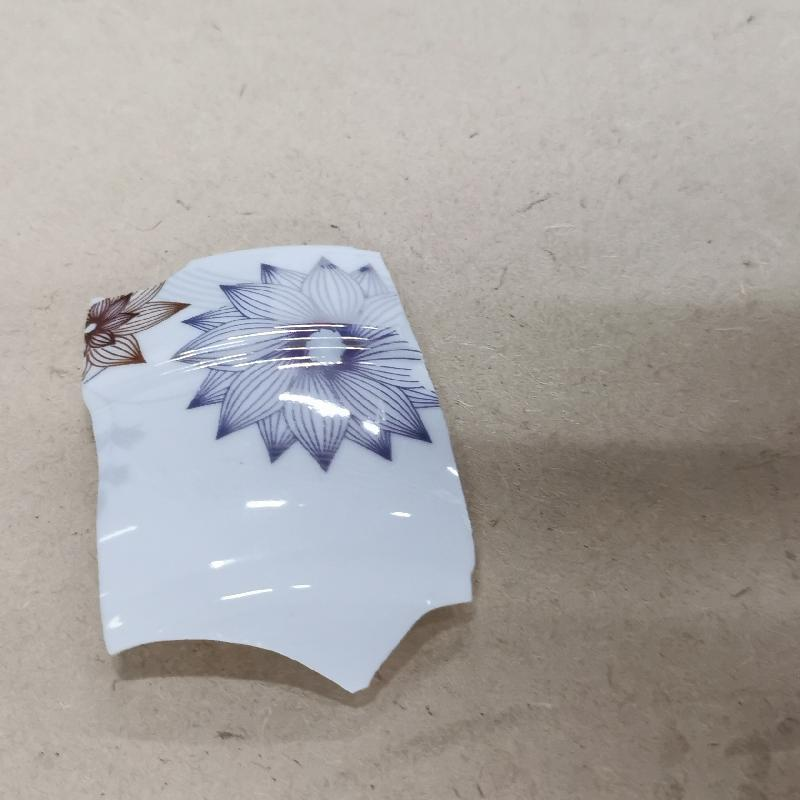ceram: (68, 239, 482, 703)
